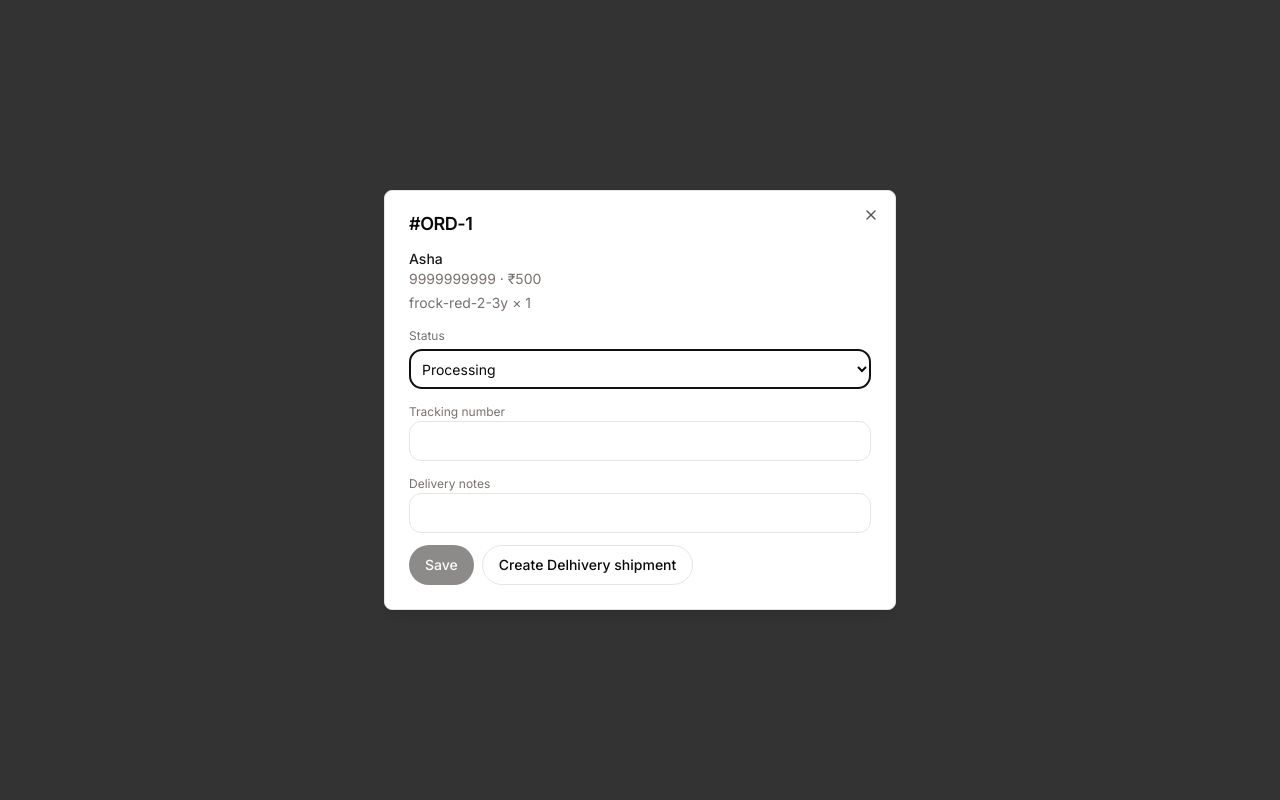
Test case: OrderDetailDialog Save button › is disabled until a field actually changes, so an empty PATCH is never sent
This screenshot has width=1280, height=800.
Expected: the button "Save" is disabled, [409,545,474,585]
Type "Leave at gate" into the field labelled "Delivery notes".
click(640, 513); type("Leave at gate")  # box [409,493,871,533]
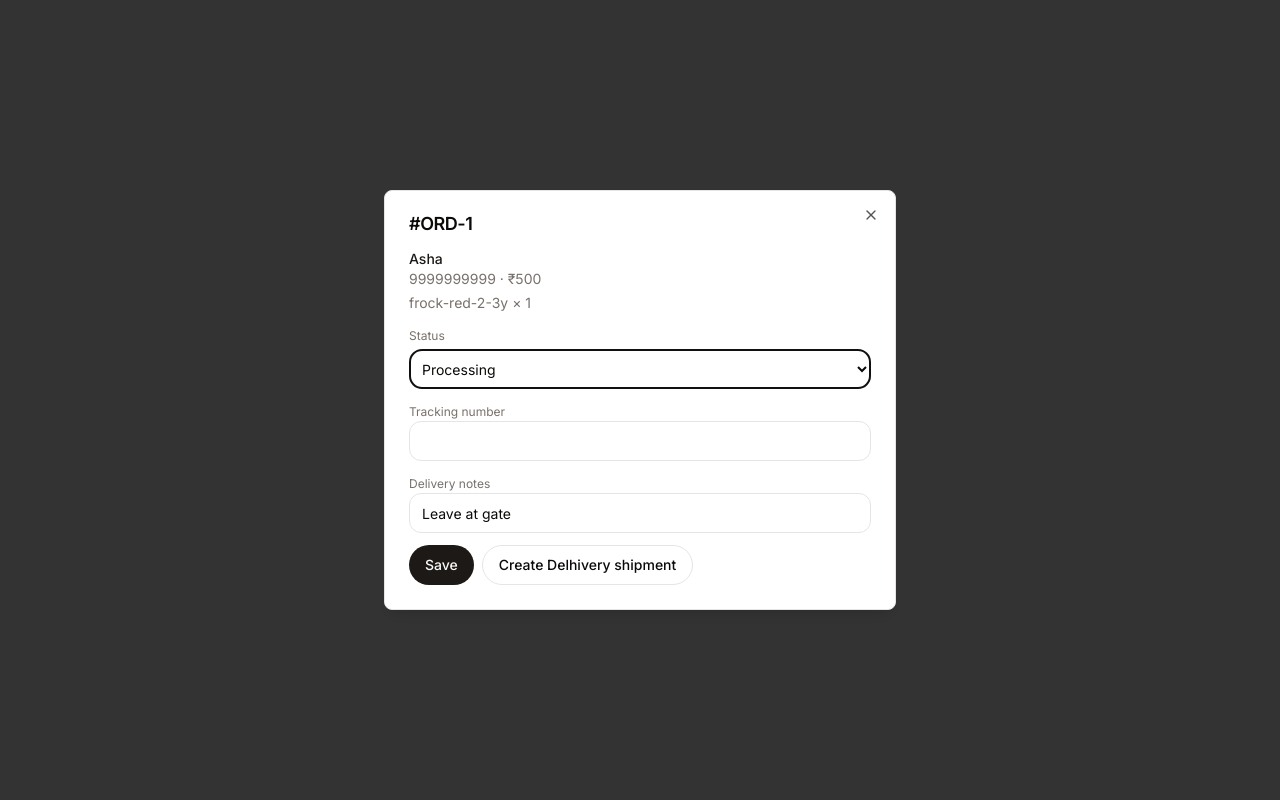
Expected: the button "Save" is enabled, [409,545,474,585]
